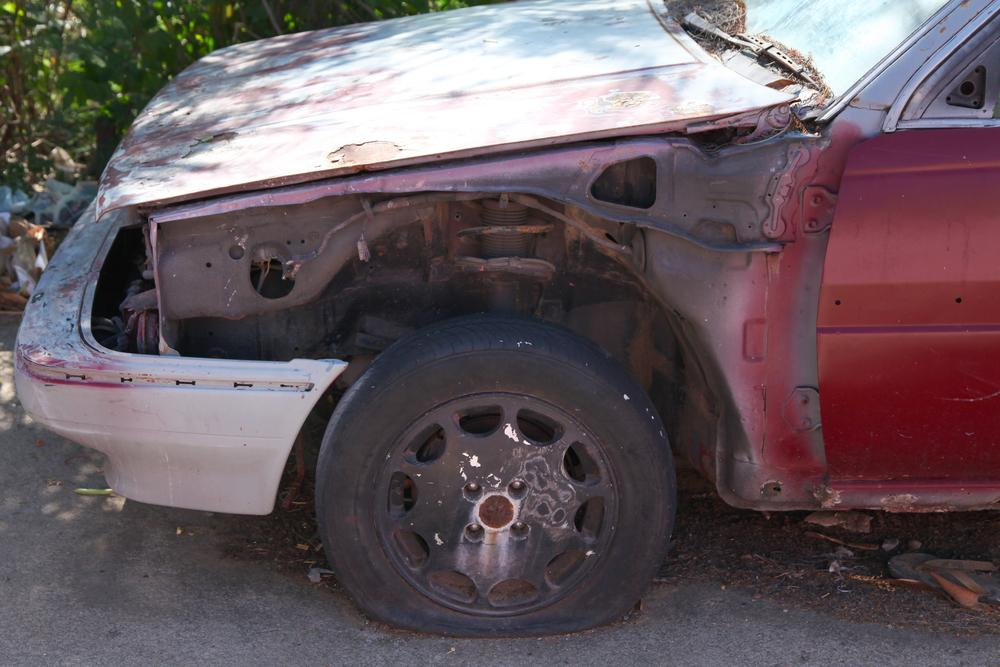tire flat: (318, 309, 676, 639)
